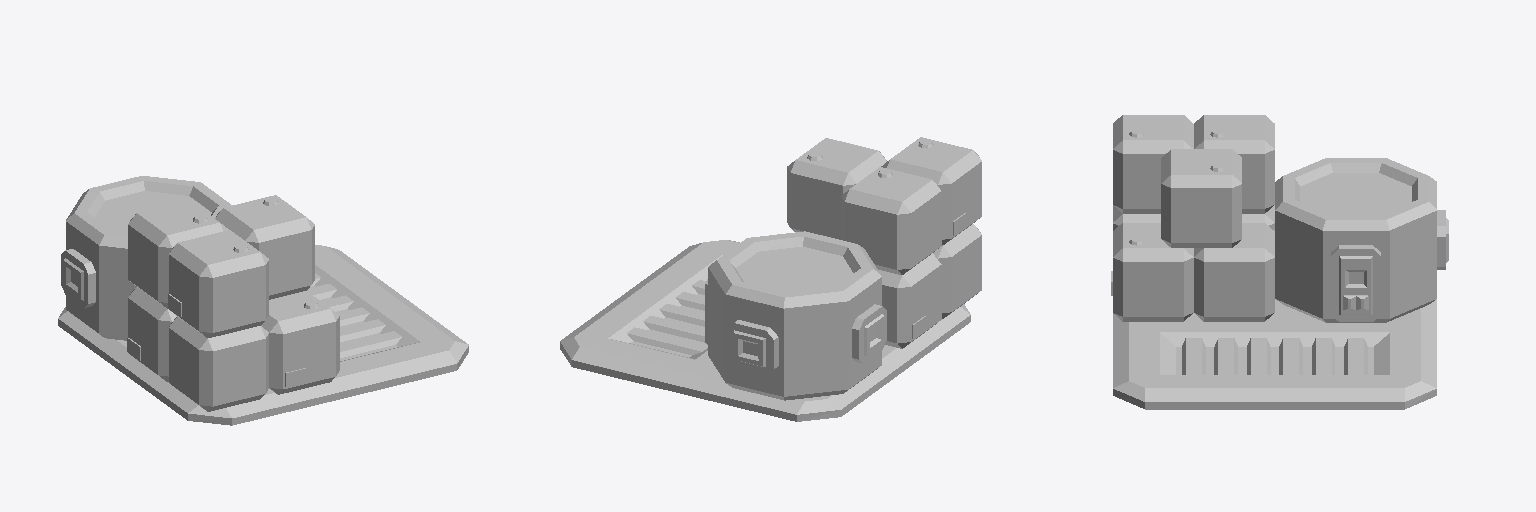
The model's file is cargodepot_A.obj.
3 views of the same model, side by side, from view 1: azimuth 30°, elevation 25°; view 2: azimuth 150°, elevation 25°; view 3: azimuth 270°, elevation 25° (orthographic).
Parts seen in each view (by area): view 1: cargodepot_A_Cylinder.2688; view 2: cargodepot_A_Cylinder.2688; view 3: cargodepot_A_Cylinder.2688.
Boxes of the visible parts, <box> form: cargodepot_A_Cylinder.2688: <box>58,176,468,425</box>; cargodepot_A_Cylinder.2688: <box>560,137,981,421</box>; cargodepot_A_Cylinder.2688: <box>1111,115,1448,409</box>.
Bounding box in the file's own units: 2.07 × 1.12 × 2.08.